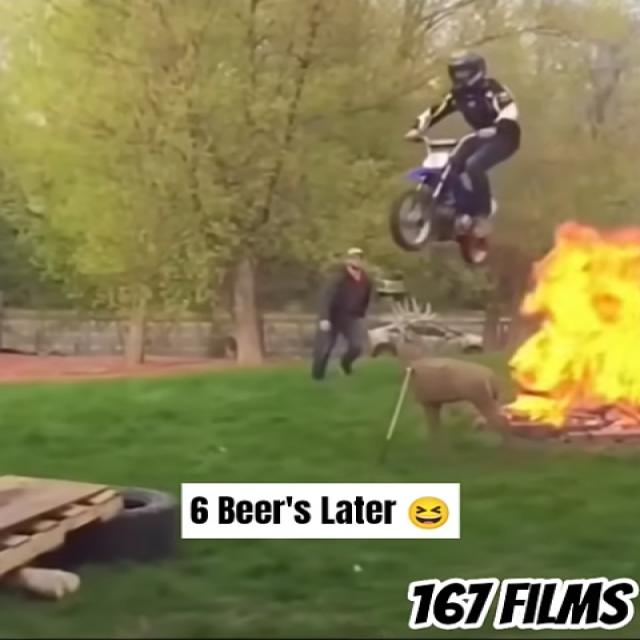fire: (502, 219, 640, 429)
